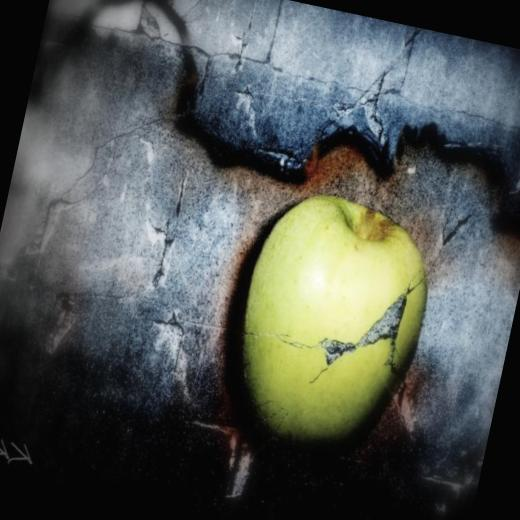Apple: (208, 192, 446, 476)
